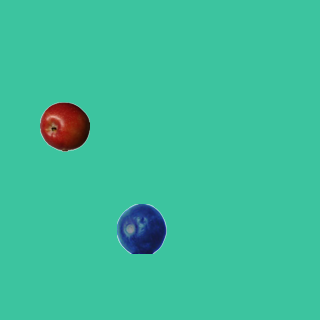Apple Braeburn: (39, 101, 89, 151)
Huckleberry: (116, 203, 166, 253)
